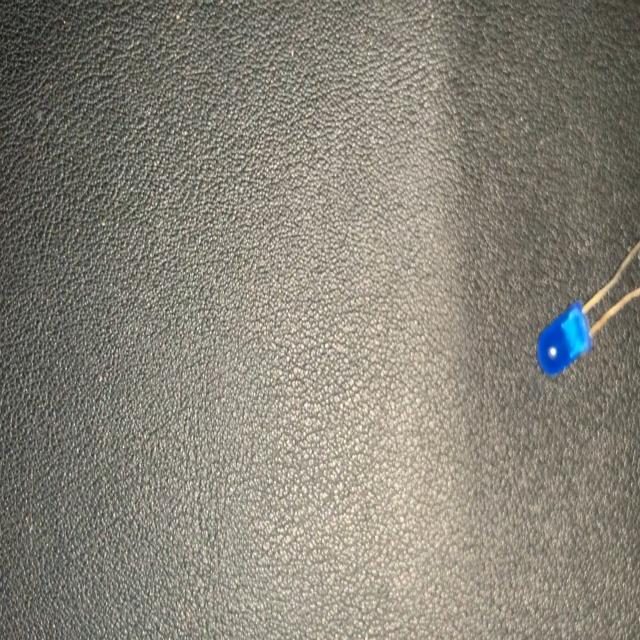LED: (535, 242, 640, 380)
